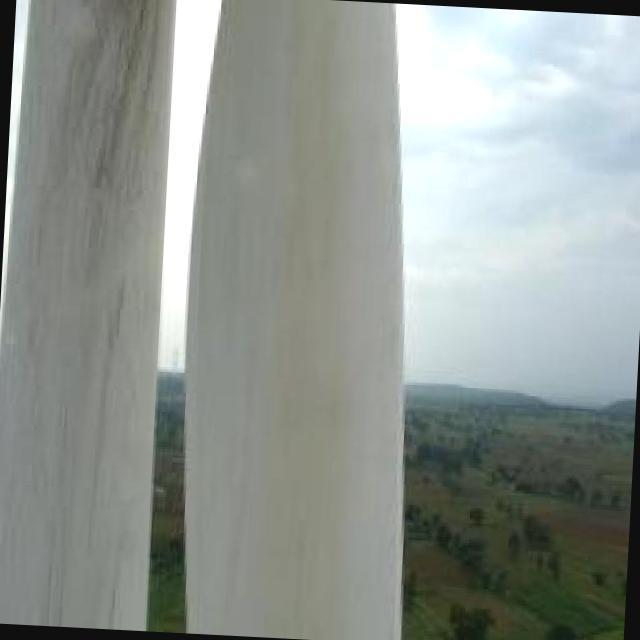Dirt: (185, 0, 359, 639), (0, 0, 171, 639)
